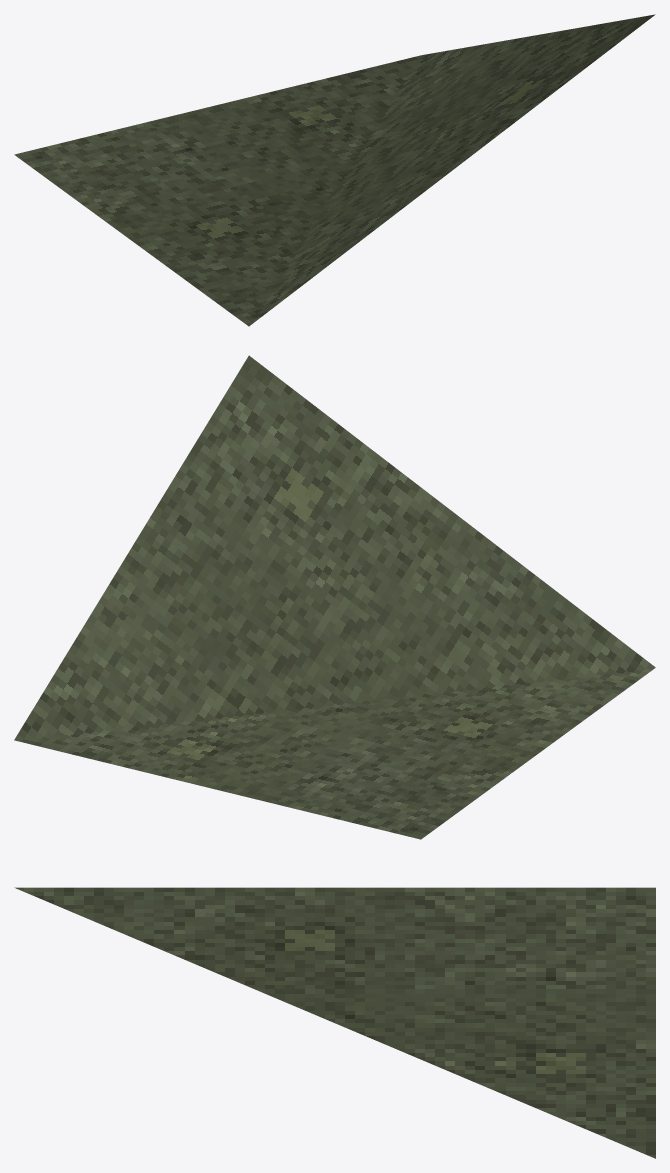
The picture shows the model from 3 angles, top to bottom: view 1: azimuth 30°, elevation 25°; view 2: azimuth 150°, elevation 25°; view 3: azimuth 270°, elevation 25°; orthographic projection. The views are drawn at different scales.
Visible parts, largest first — view 1: grass-corner; view 2: grass-corner; view 3: grass-corner.
Boxes of the visible parts, x1,y1,x2,y2 form: grass-corner: (14, 14, 655, 326); grass-corner: (14, 355, 655, 839); grass-corner: (14, 887, 655, 1158).
Bounding box in the file's own units: 1 × 0.5 × 1.
1 material, 1 textured.
